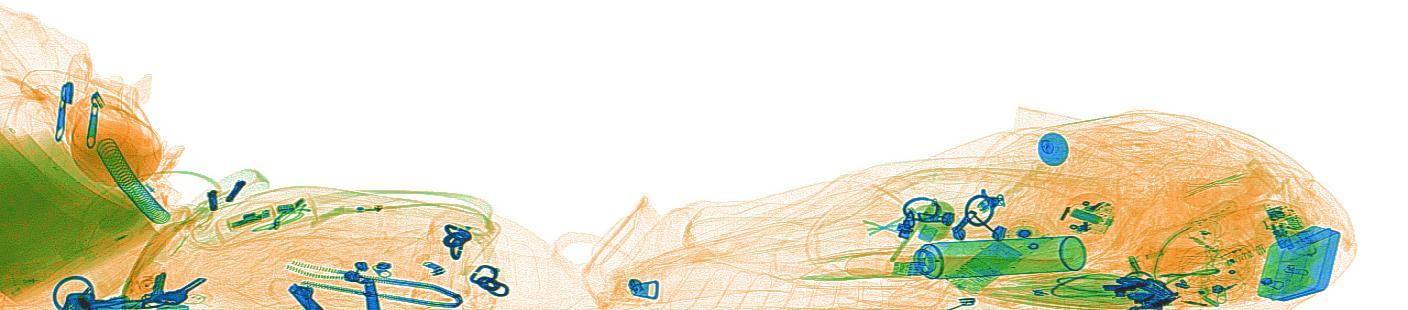USBFlashDisk: (892, 258, 925, 278)
plasticBottleWithaNozzle: (1082, 197, 1284, 286)
pressure: (914, 235, 1085, 280)
